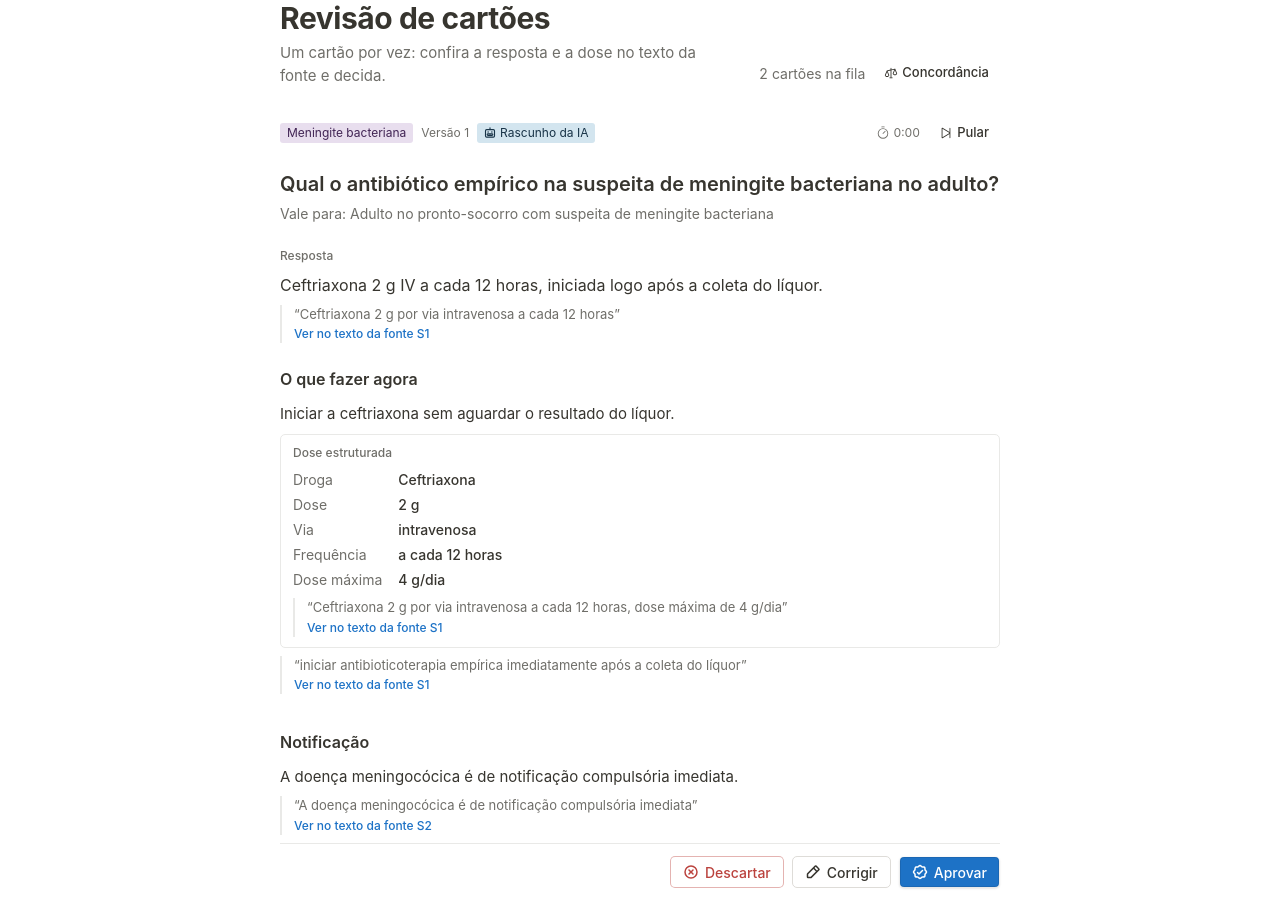
Revisão de cartões (CC-404) › outro revisor decidiu antes: avisa e carrega o próximo
This screenshot has width=1280, height=900.
Expected: the heading "Qual o antibiótico empírico na suspeita de meningite bacteriana no adulto?" is shown, [280,171,1000,197]
Click the 4th button named "Aprovar" at (949, 872), box [899,856,1000,888]
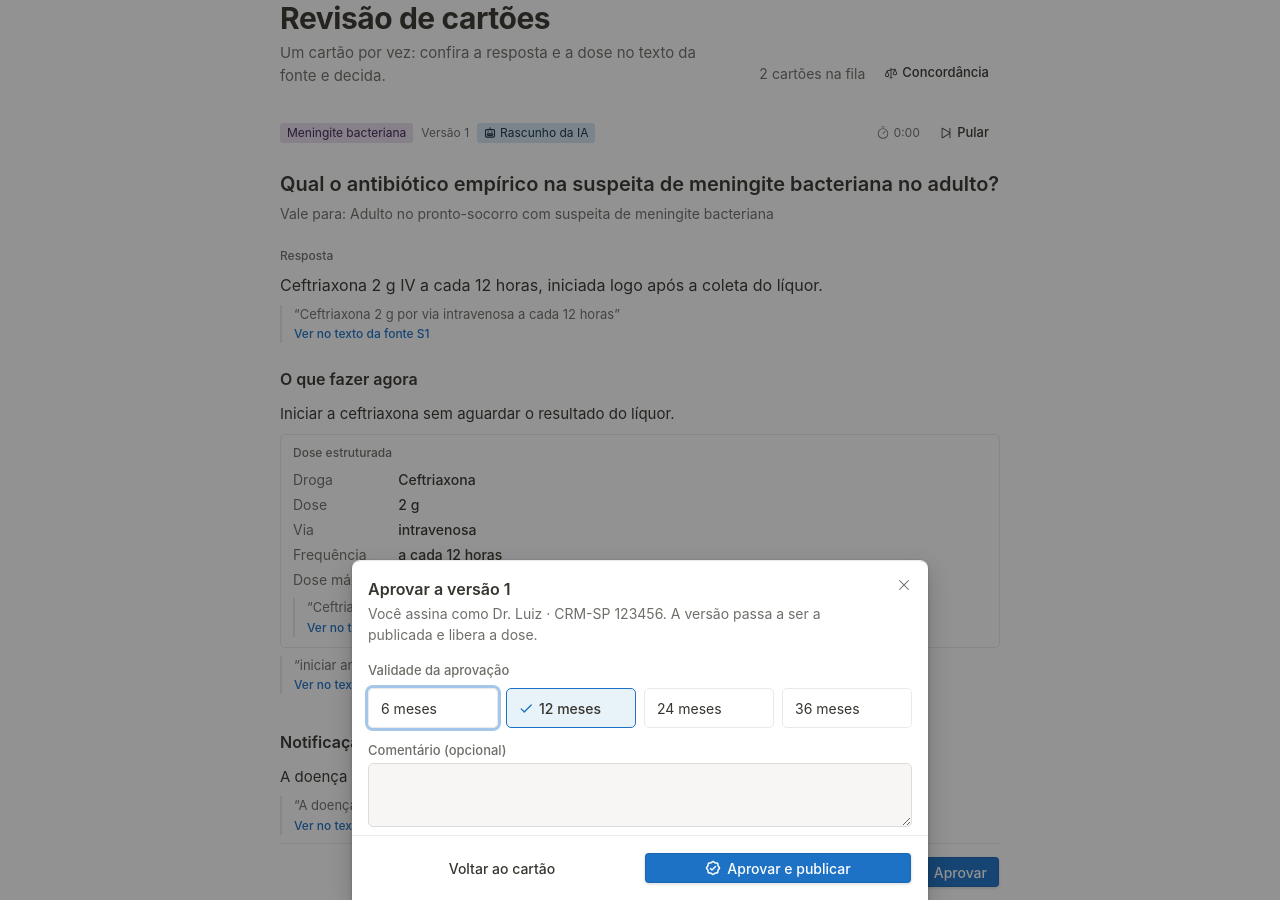
Click the 3rd button named "Aprovar e publicar" at (778, 868), box [644,852,912,884]
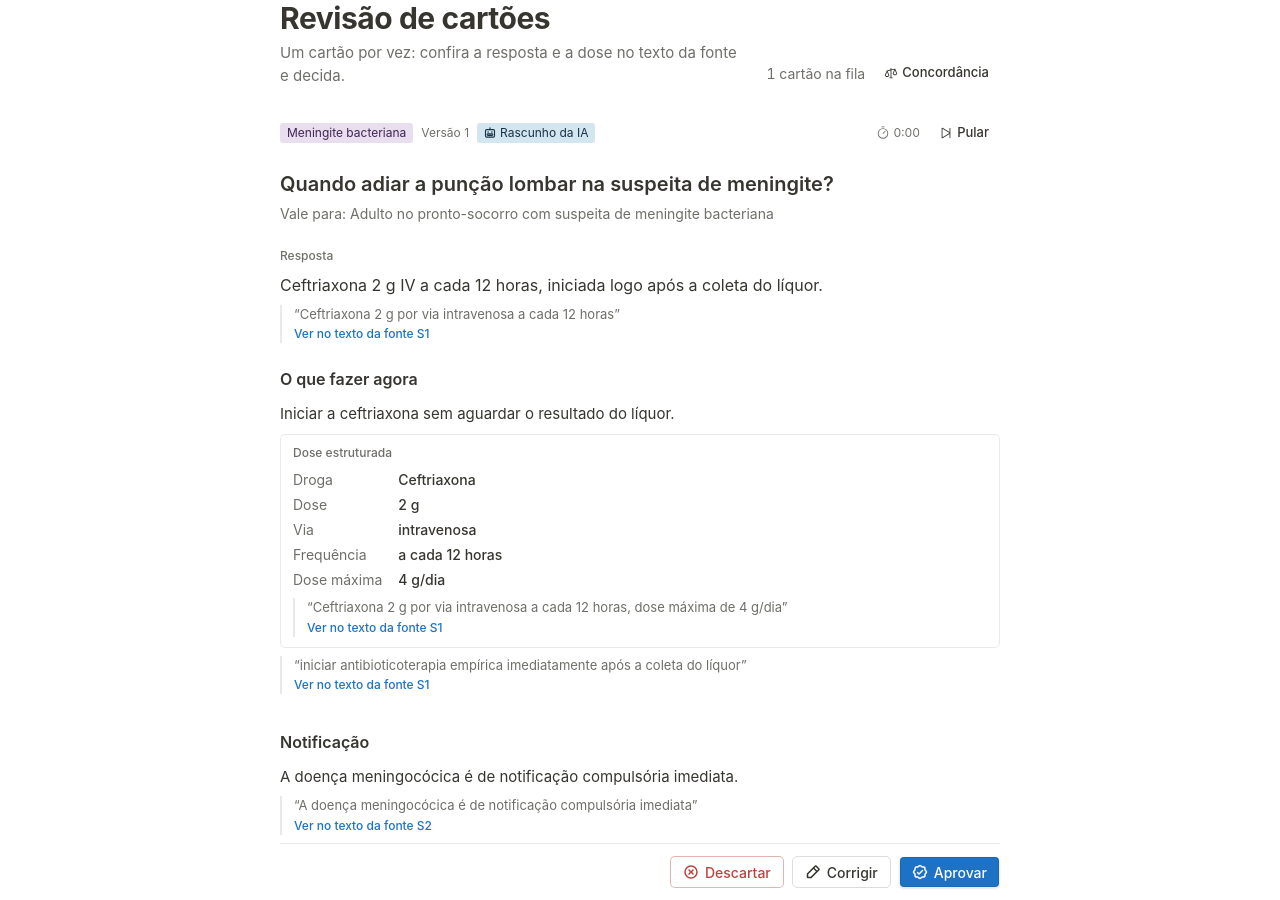
Expected: the heading "Quando adiar a punção lombar na suspeita de meningite?" is shown, [280,172,834,196]
